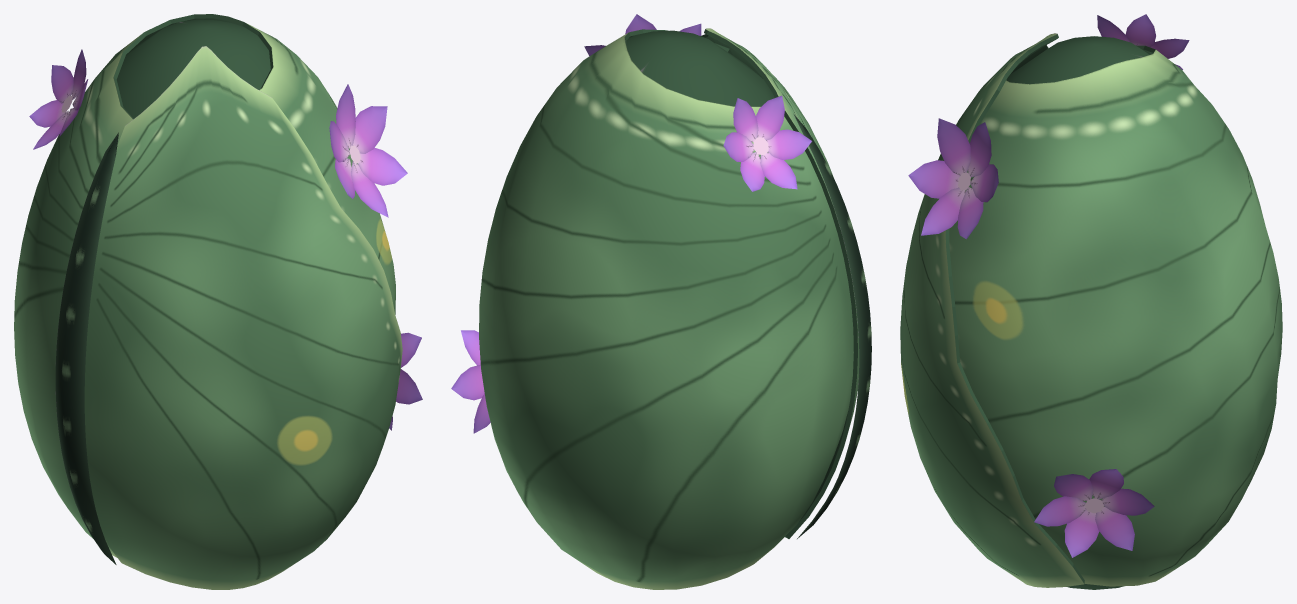
Rendered from luna_moth.fbx.
3 renders of one model, left to right at view 1: azimuth 30°, elevation 25°; view 2: azimuth 150°, elevation 25°; view 3: azimuth 270°, elevation 25°, orthographic.
Visible parts, largest first — view 1: luna_moth_Shell; view 2: luna_moth_Shell; view 3: luna_moth_Shell.
Boxes of the visible parts, bbox=[...] form: luna_moth_Shell: bbox=[14, 14, 422, 589]; luna_moth_Shell: bbox=[451, 14, 871, 589]; luna_moth_Shell: bbox=[900, 14, 1282, 589].
Size of the model in its own units: 2.16 by 3 by 1.95.
2 materials, 1 textured.
